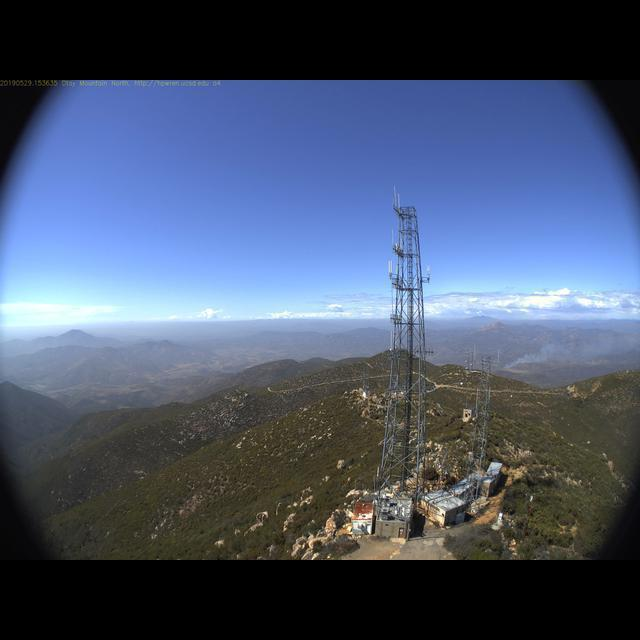Smoke: (502, 336, 612, 373)
